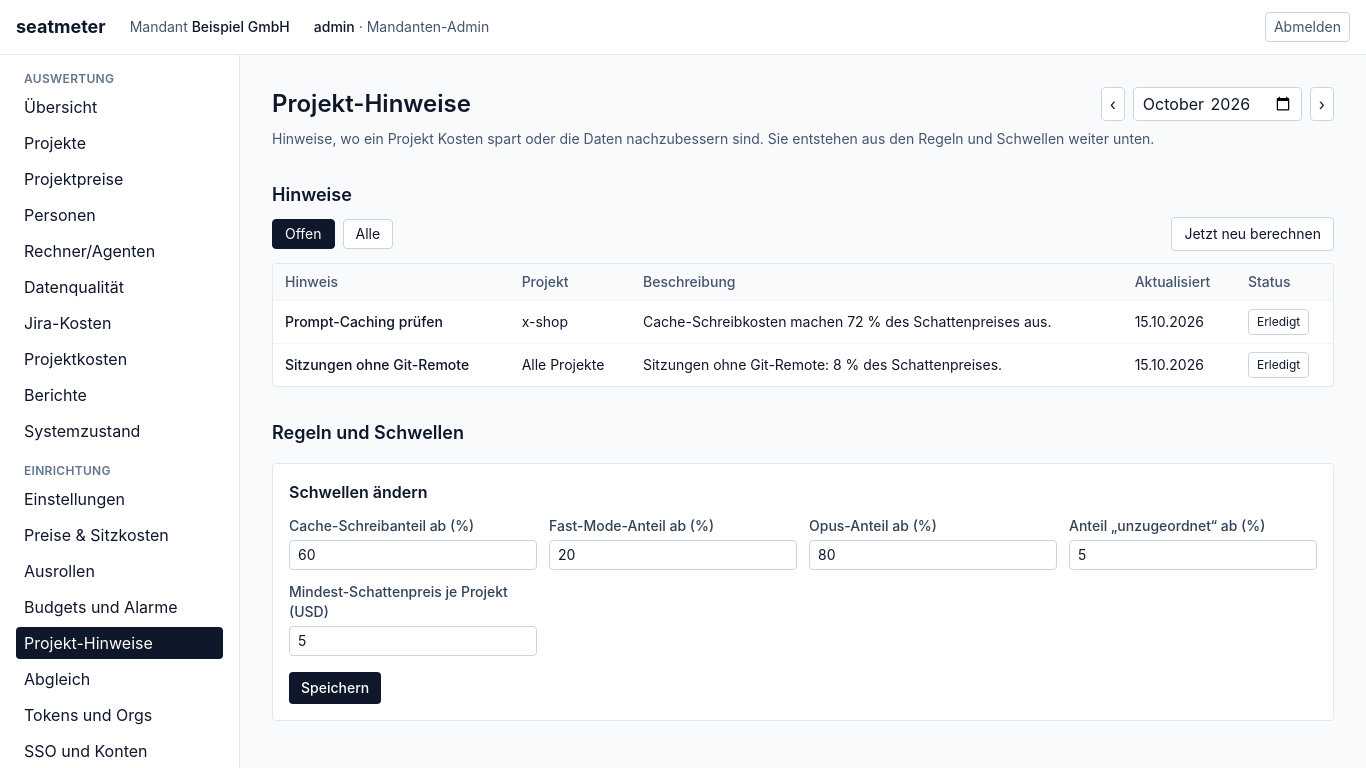
Test: Regeln und Neuberechnung › lässt Admins Schwellen ändern (PUT mit allen fünf Feldern)
The width and height of the screenshot is (1366, 768).
Replace the text in the field labelled "Fast-Mode-Anteil ab (%)" with "30" at (673,555), box x1=549 y1=540 x2=797 y2=570
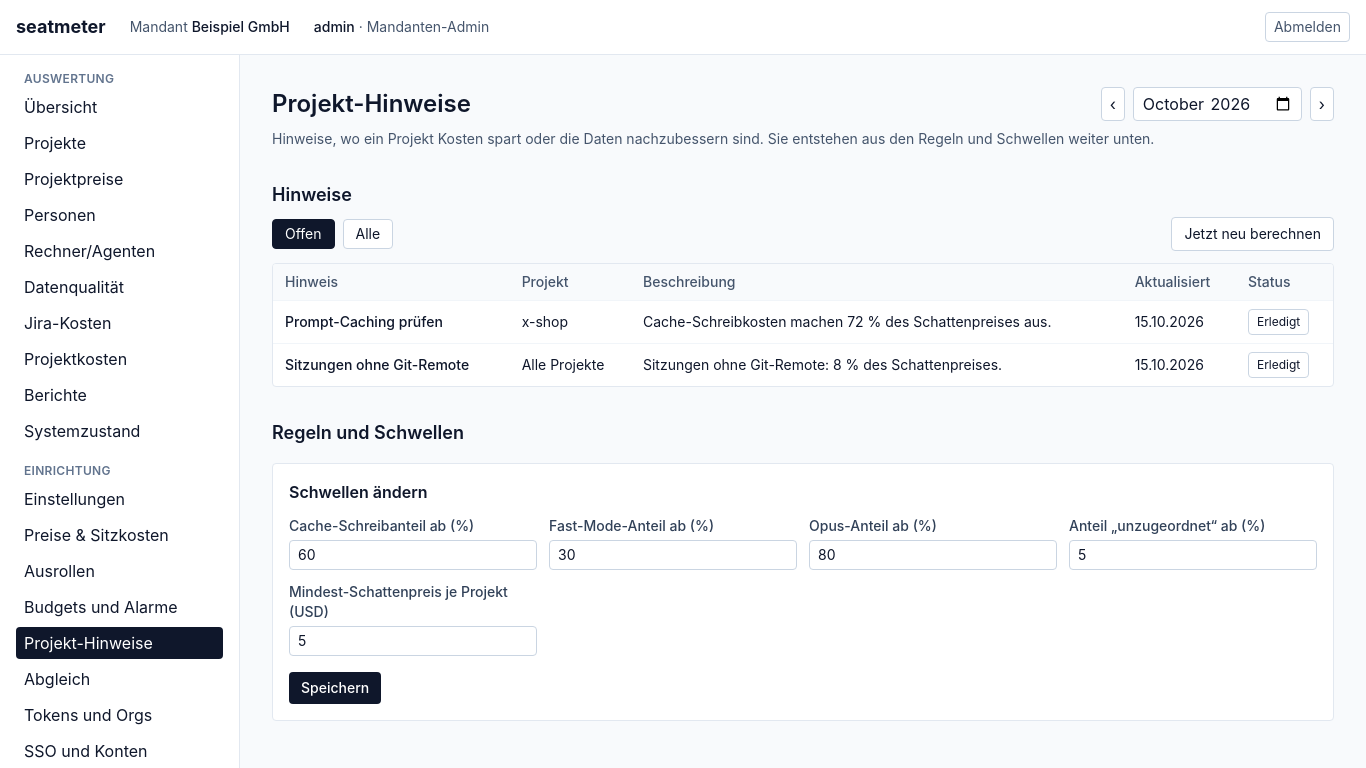
Click the button "Speichern" at (335,688), box x1=289 y1=672 x2=381 y2=704
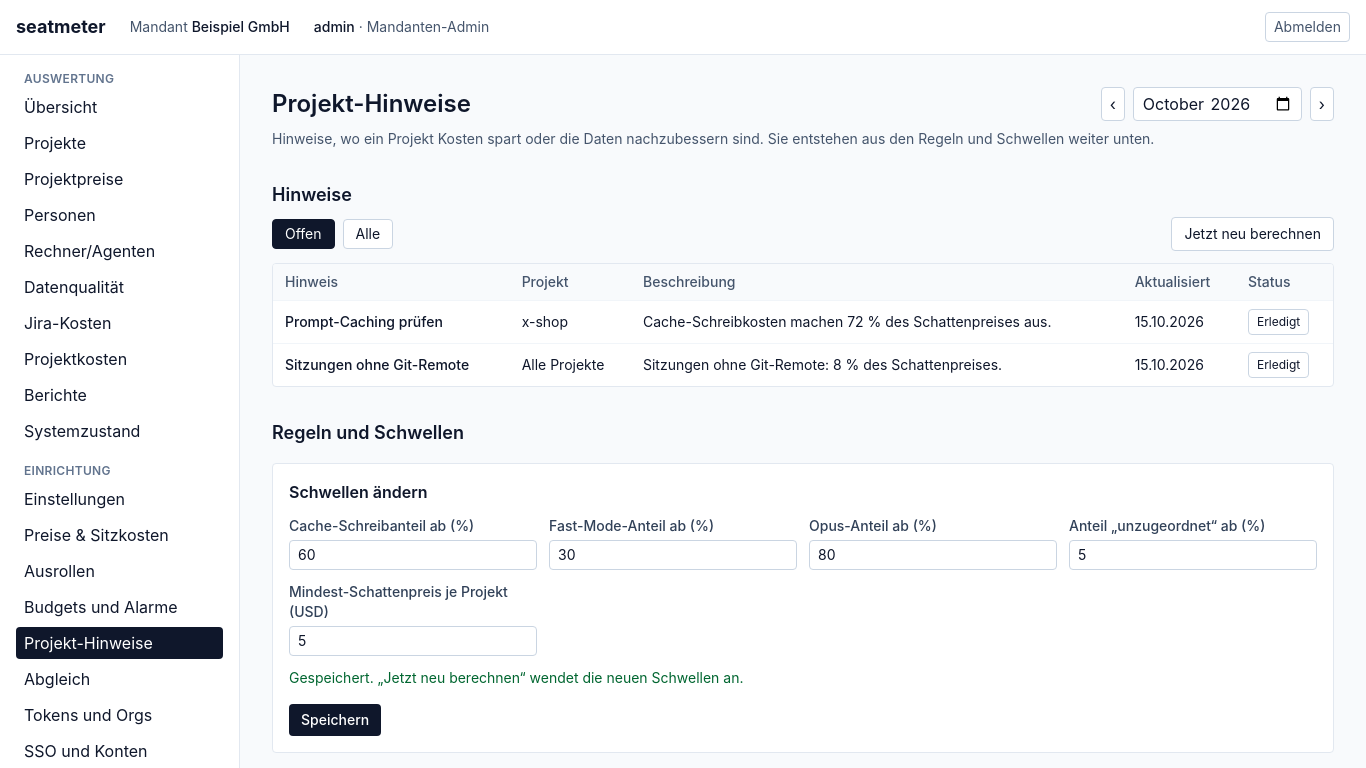
Expected: the text "Gespeichert. „Jetzt neu berechnen“ wendet die neuen Schwellen an." is shown, x1=289 y1=669 x2=744 y2=686
